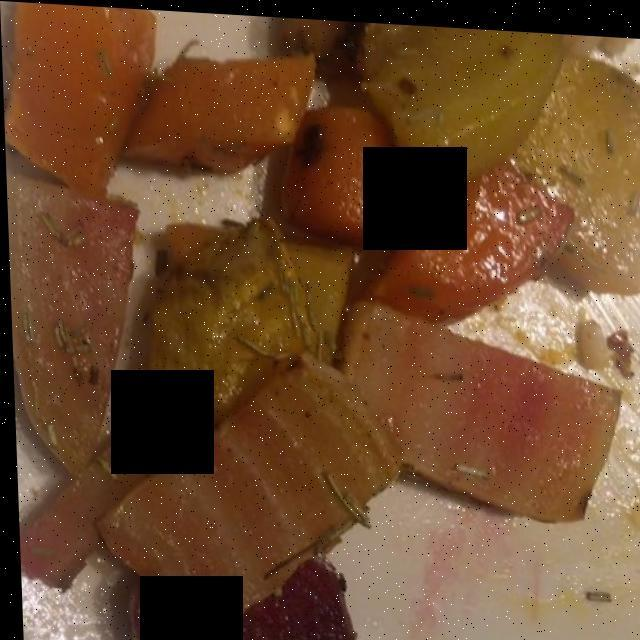mixed-vegetables: (7, 4, 640, 640)
